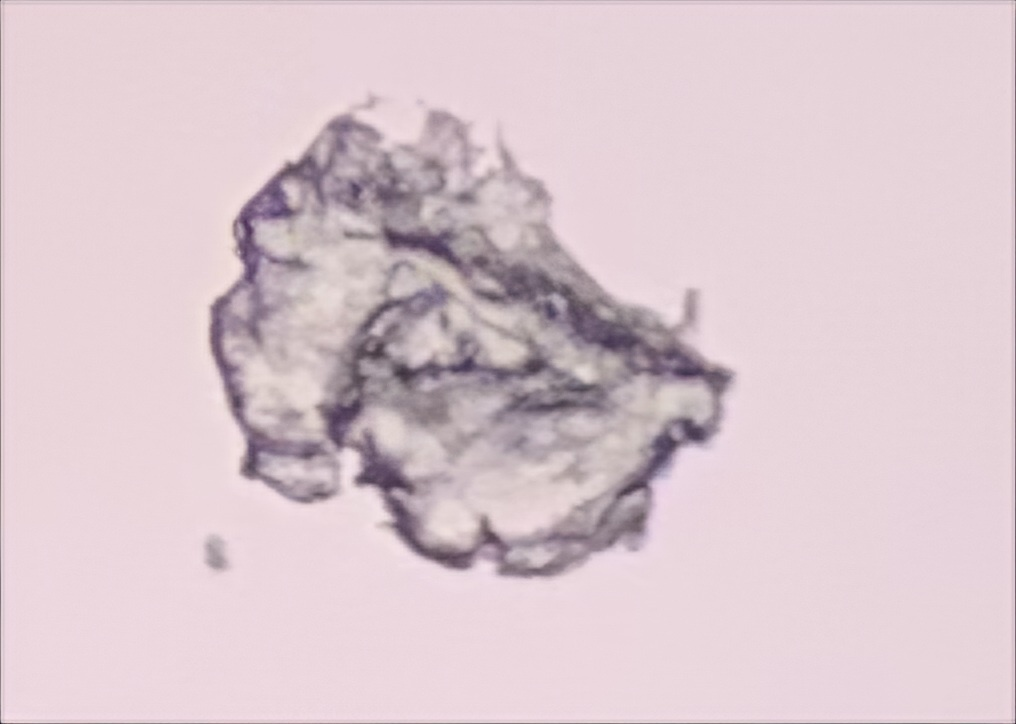microplastic: (202, 92, 737, 580)
